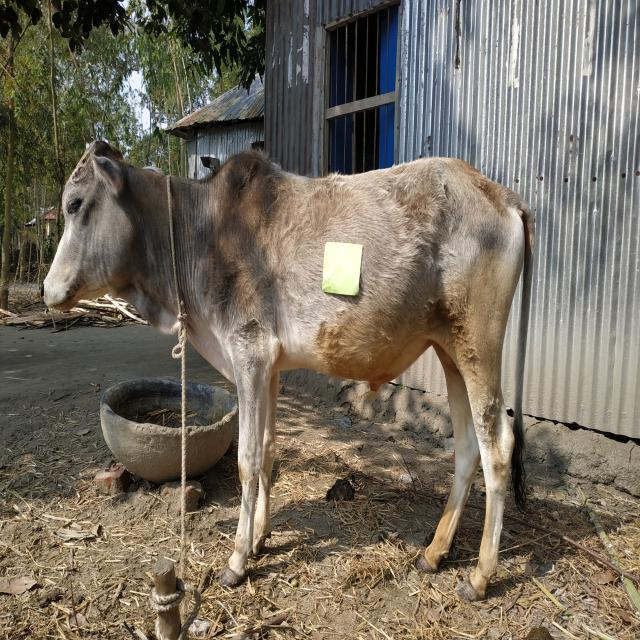badan_sapi: (228, 170, 510, 380)
sapi: (36, 122, 544, 602)
